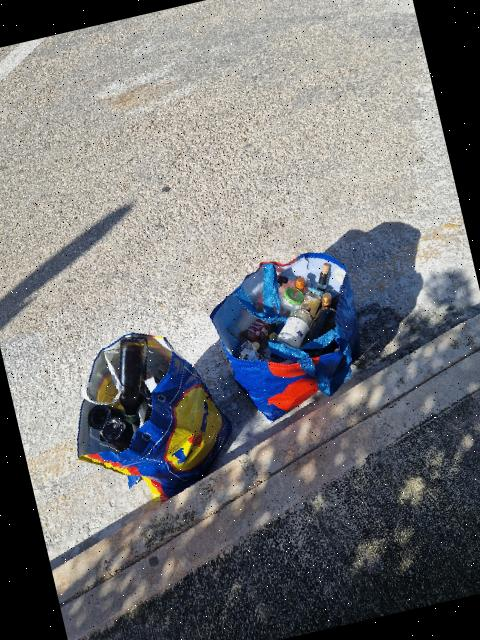Other: (76, 332, 232, 500), (210, 252, 361, 421)
